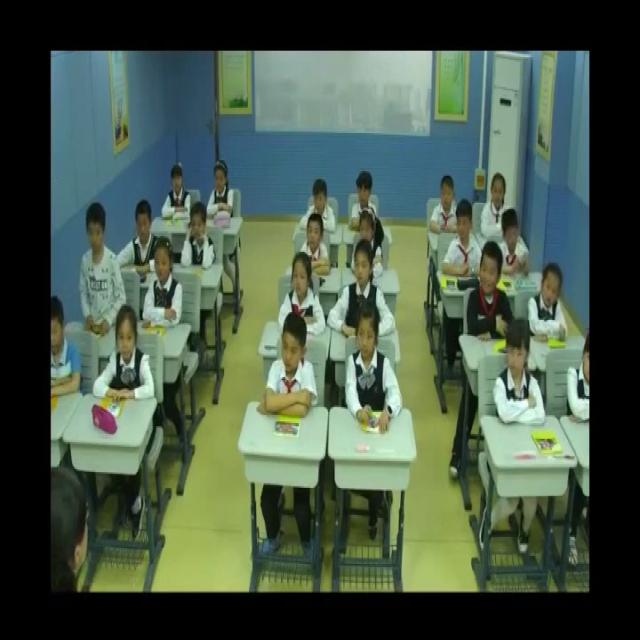distracted: (496, 207, 534, 279)
focused: (344, 301, 404, 435), (327, 238, 395, 339), (492, 318, 547, 435), (80, 204, 128, 337), (94, 303, 154, 407), (260, 311, 318, 418), (468, 243, 512, 345), (278, 248, 327, 339), (50, 294, 87, 404), (144, 236, 186, 328), (528, 261, 570, 349), (442, 199, 488, 278), (122, 199, 161, 270), (352, 209, 388, 281), (181, 200, 214, 275), (299, 176, 336, 240), (478, 170, 512, 238), (348, 170, 384, 233), (429, 172, 461, 242), (161, 164, 194, 229), (207, 161, 238, 226), (301, 213, 331, 277)
